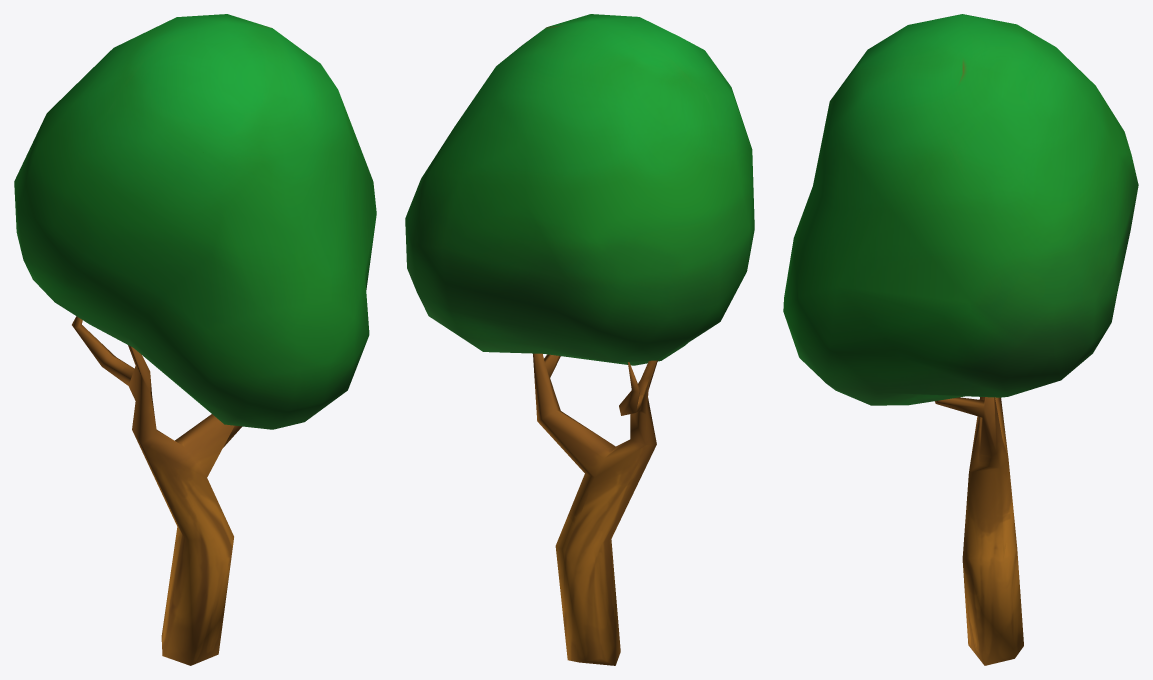
The model's file is Arbol_1.fbx.
The picture shows the model from 3 angles, left to right: view 1: azimuth 30°, elevation 25°; view 2: azimuth 150°, elevation 25°; view 3: azimuth 270°, elevation 25°; orthographic projection. The views are drawn at different scales.
Visible parts, largest first — view 1: Plane; view 2: Plane; view 3: Plane.
Part boxes in pixels (left/top/right/bottom): Plane: left=14, top=14, right=376, bottom=665; Plane: left=405, top=14, right=754, bottom=665; Plane: left=783, top=14, right=1138, bottom=665.
Bounding box in the file's own units: 116 × 219 × 112.
Materials: 1 (1 with a texture image).
